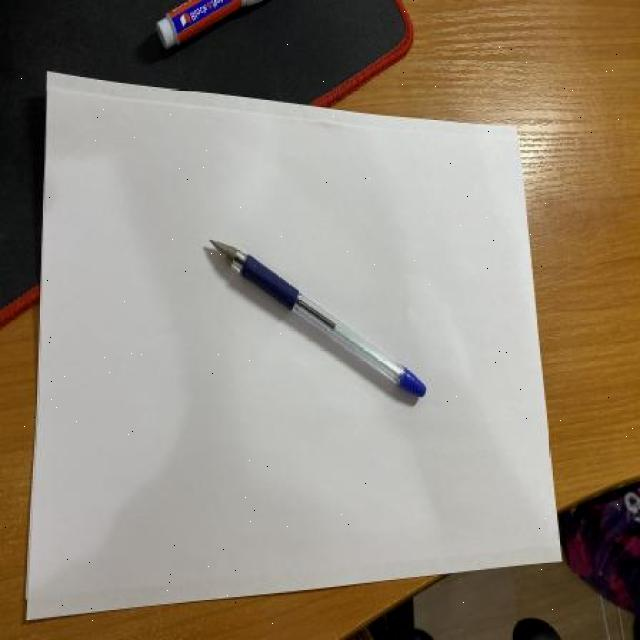pen: (207, 236, 426, 399)
